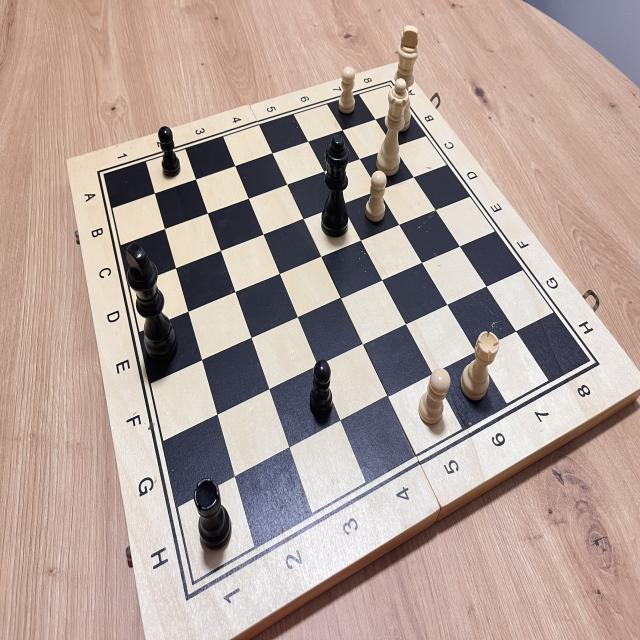black-king: (121, 238, 181, 370)
black-pawn: (153, 120, 186, 188), (306, 354, 338, 422)
black-queen: (319, 130, 353, 237)
black-rook: (184, 470, 240, 557)
white-king: (381, 22, 423, 138)
white-pawn: (414, 359, 456, 433), (362, 163, 394, 233), (334, 58, 359, 121)
white-queen: (373, 74, 415, 185)
white-rook: (454, 323, 502, 414)
